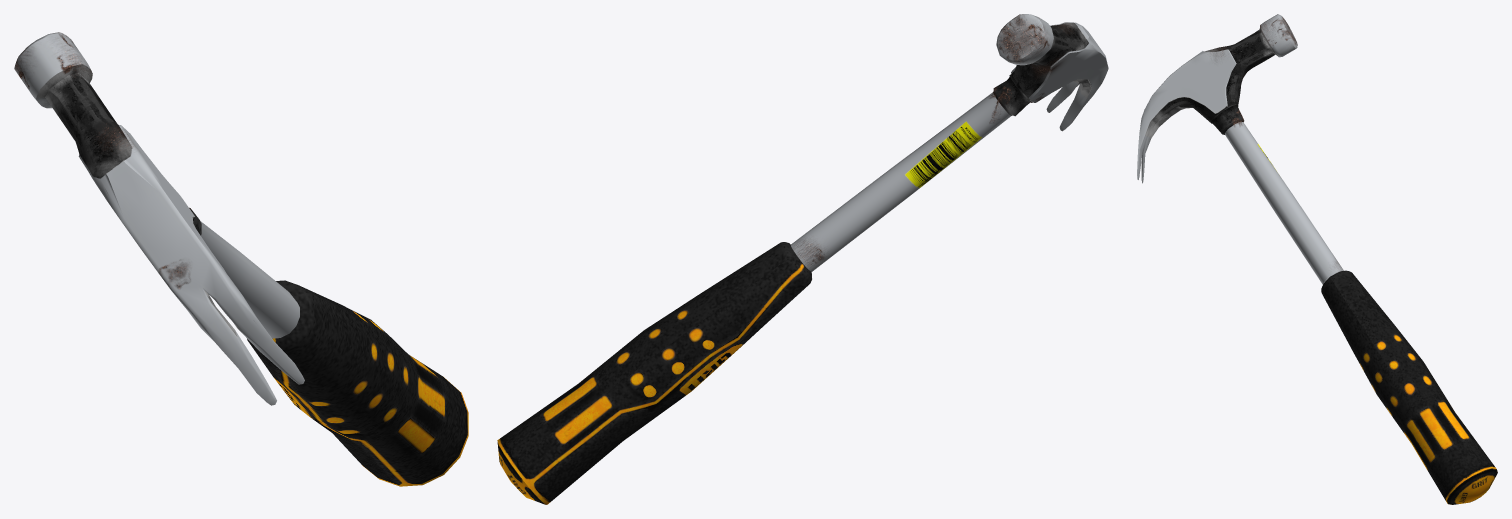
Rendered from Complete.fbx.
The picture shows the model from 3 angles, left to right: view 1: azimuth 30°, elevation 25°; view 2: azimuth 150°, elevation 25°; view 3: azimuth 270°, elevation 25°; orthographic projection. The views are drawn at different scales.
Parts seen in each view (by area): view 1: Shaft/Head_low, Handle_low; view 2: Handle_low, Shaft/Head_low; view 3: Handle_low, Shaft/Head_low.
Boxes of the visible parts, box(x1,y1,x2,y2) form: Shaft/Head_low: box(14, 32, 304, 405); Handle_low: box(247, 280, 468, 486); Handle_low: box(497, 242, 811, 504); Shaft/Head_low: box(791, 14, 1108, 271); Handle_low: box(1321, 270, 1497, 504); Shaft/Head_low: box(1137, 14, 1343, 284).
Size of the model in its own units: 20.25 by 22.13 by 20.24.
